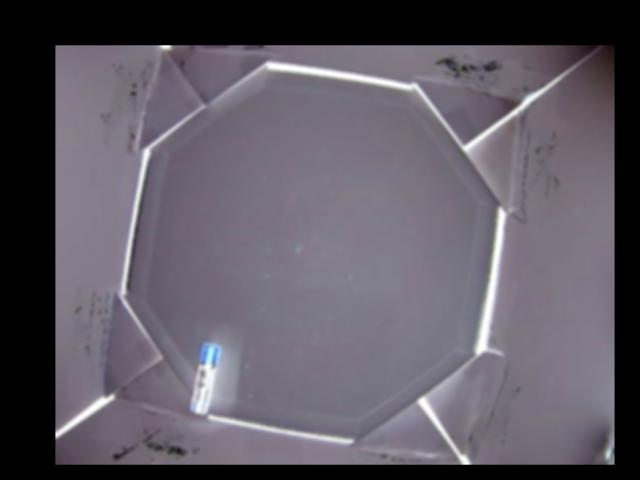Battery: (189, 342, 219, 414)
